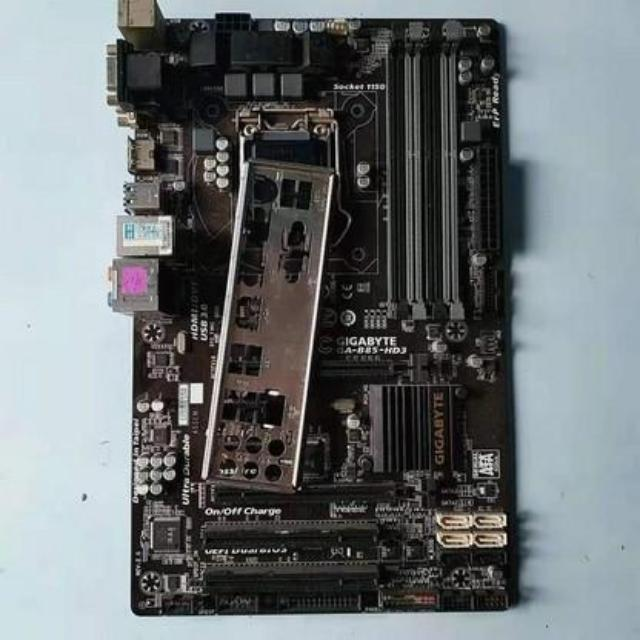Mainboard: (102, 4, 538, 621)
